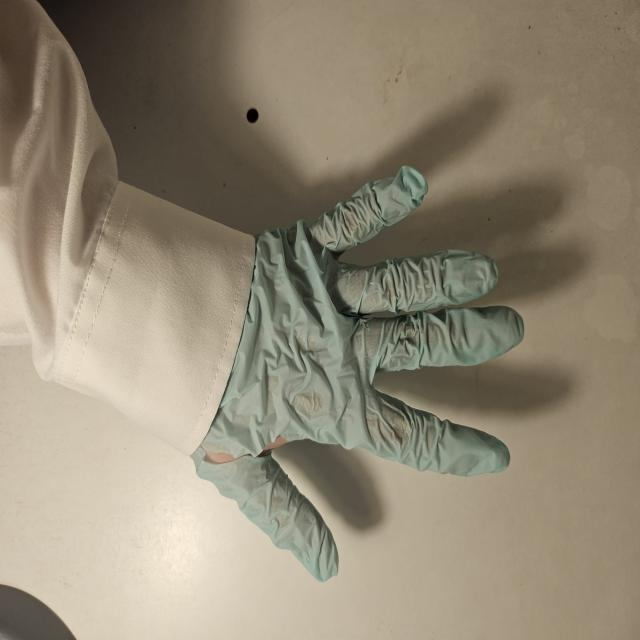gloves_damaged: (190, 164, 529, 583)
